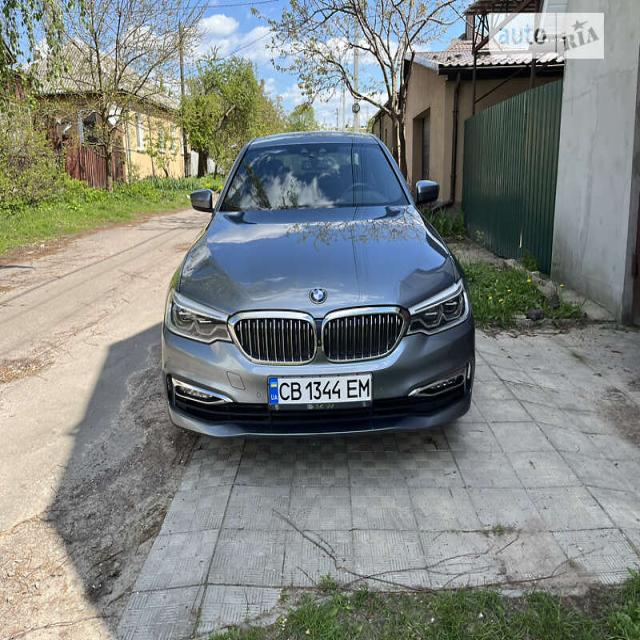plate: (268, 372, 380, 412)
